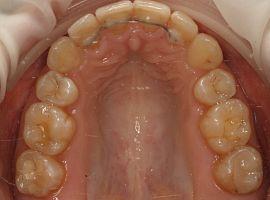UL1BC_decay: (192, 66, 237, 105)
UL1M_healthy: (213, 146, 263, 195)
UL2BC_decay: (201, 97, 249, 154)
ULCI_decay: (132, 1, 171, 30)
ULC_decay: (187, 35, 221, 69)
ULLI_decay: (167, 12, 198, 45)
UR1BC_decay: (37, 72, 78, 107)
UR1M_decay: (16, 150, 64, 198)
UR2BC_decay: (22, 103, 75, 155)
URCI_healthy: (93, 1, 133, 28)
URC_healthy: (47, 36, 83, 73)
URLI_healthy: (67, 14, 100, 47)
